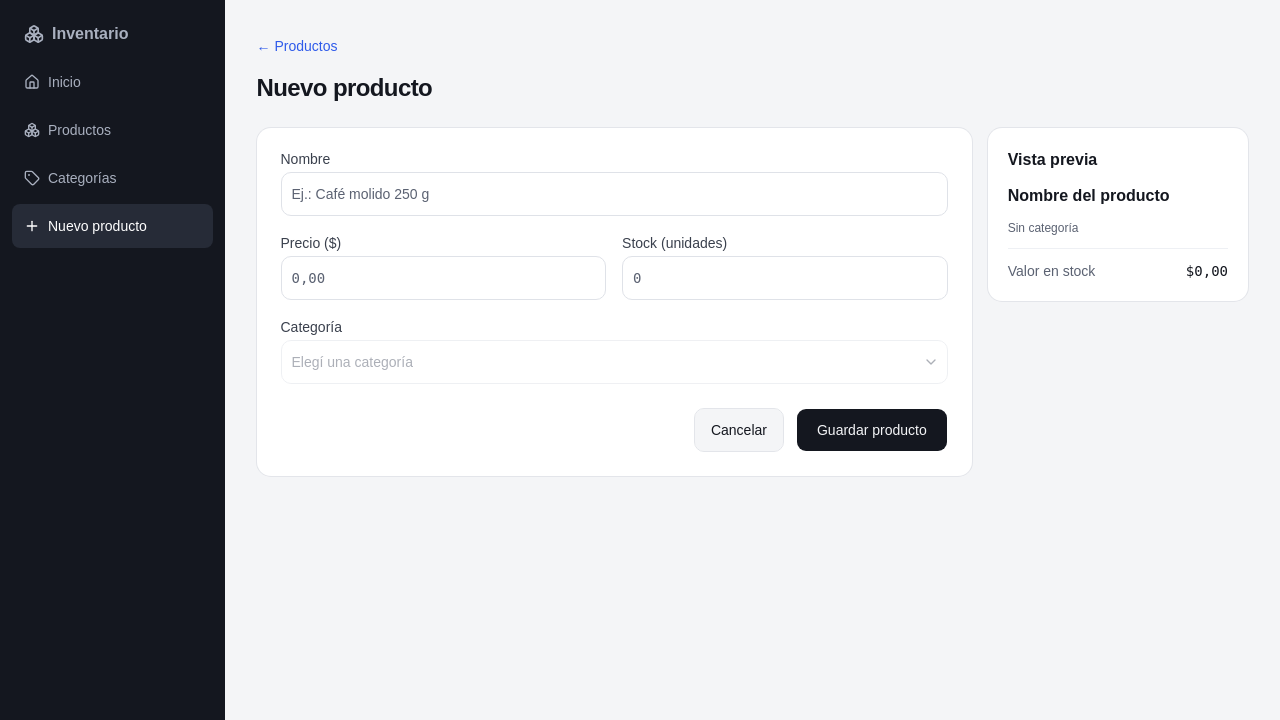
NewProductPage › CA2: campos vacíos fallan con el mensaje de su regla
The width and height of the screenshot is (1280, 720).
Expected: the dropdown labelled "categoría" is shown, left=280, top=340, right=948, bottom=384
What coordinates should you click on to do the following:
click the button "Guardar producto"
I would click on:
 (872, 430)
Its box is left=796, top=408, right=948, bottom=452.
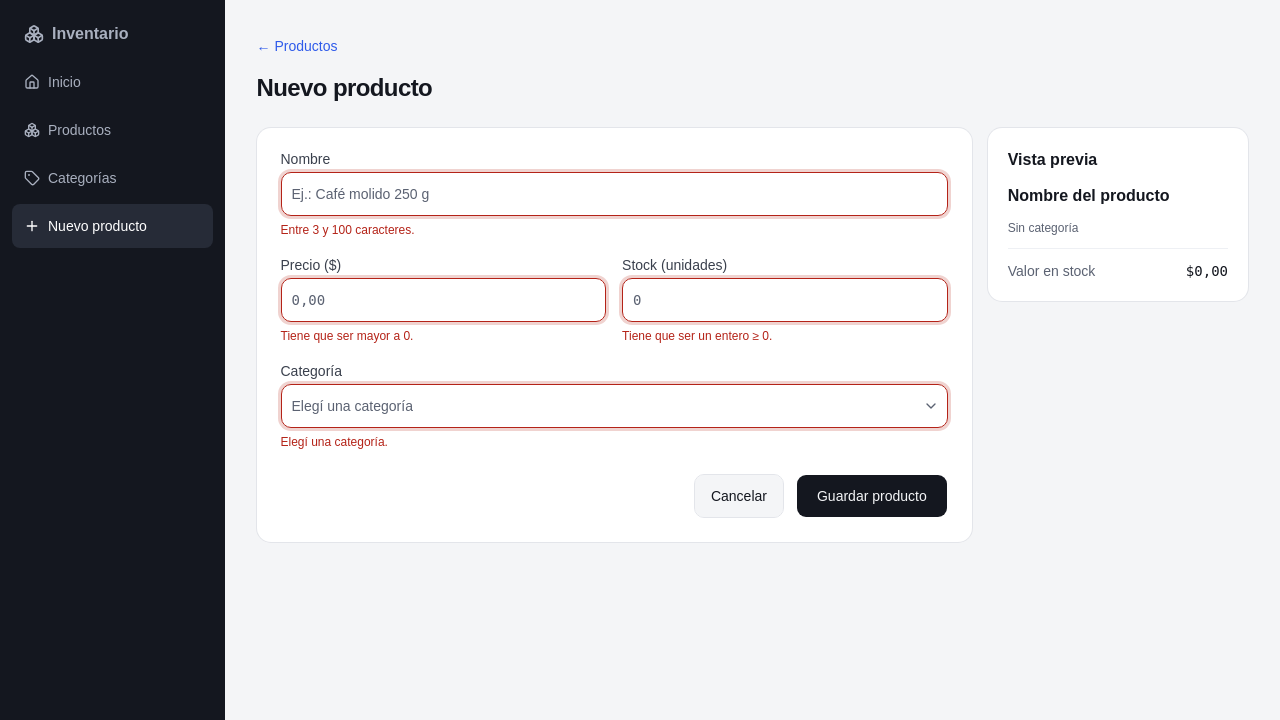
Result: the text "Entre 3 y 100 caracteres." is shown at left=280, top=223, right=415, bottom=237
Result: the text "Tiene que ser mayor a 0." is shown at left=280, top=329, right=414, bottom=343
Result: the text "Tiene que ser un entero ≥ 0." is shown at left=622, top=329, right=772, bottom=343
